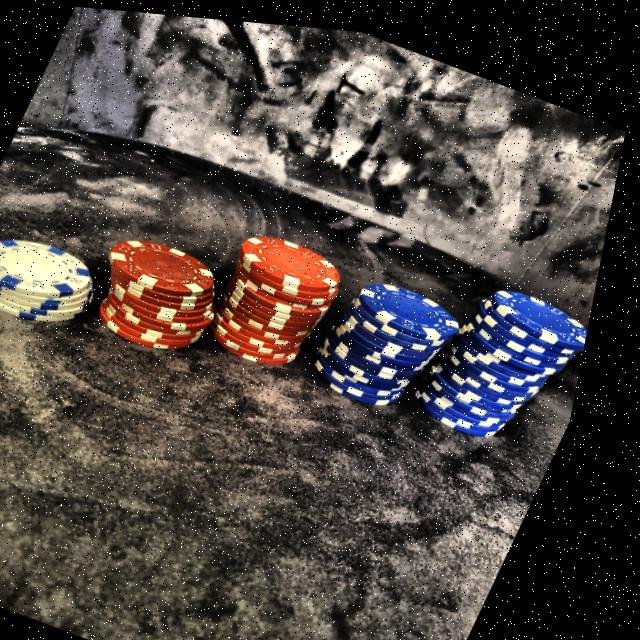Chip: (413, 248, 607, 457), (198, 199, 381, 385), (81, 203, 261, 370), (313, 251, 488, 421), (0, 203, 139, 355)
